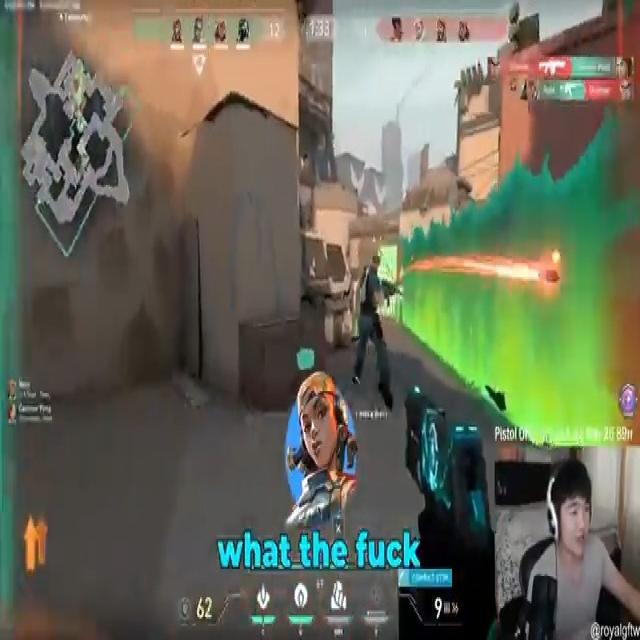ally: (352, 251, 392, 405)
